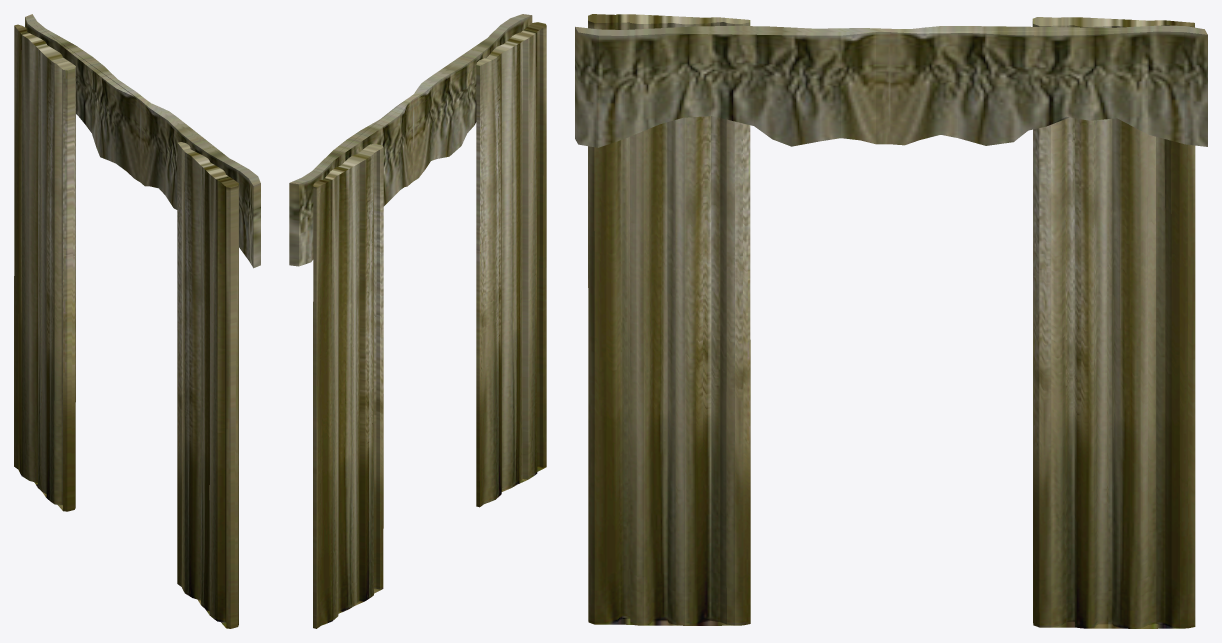
Rendered from curtain.fbx.
3 views of the same model, side by side, from view 1: azimuth 30°, elevation 25°; view 2: azimuth 150°, elevation 25°; view 3: azimuth 270°, elevation 25° (orthographic). The views are drawn at different scales.
Parts seen in each view (by area): view 1: Mesh1; view 2: Mesh1; view 3: Mesh1.
Part boxes in pixels (x1,y1,x2,y2): Mesh1: [14, 14, 260, 628]; Mesh1: [289, 14, 546, 628]; Mesh1: [575, 14, 1207, 628].
Size of the model in its own units: 13.38 by 164 by 155.
